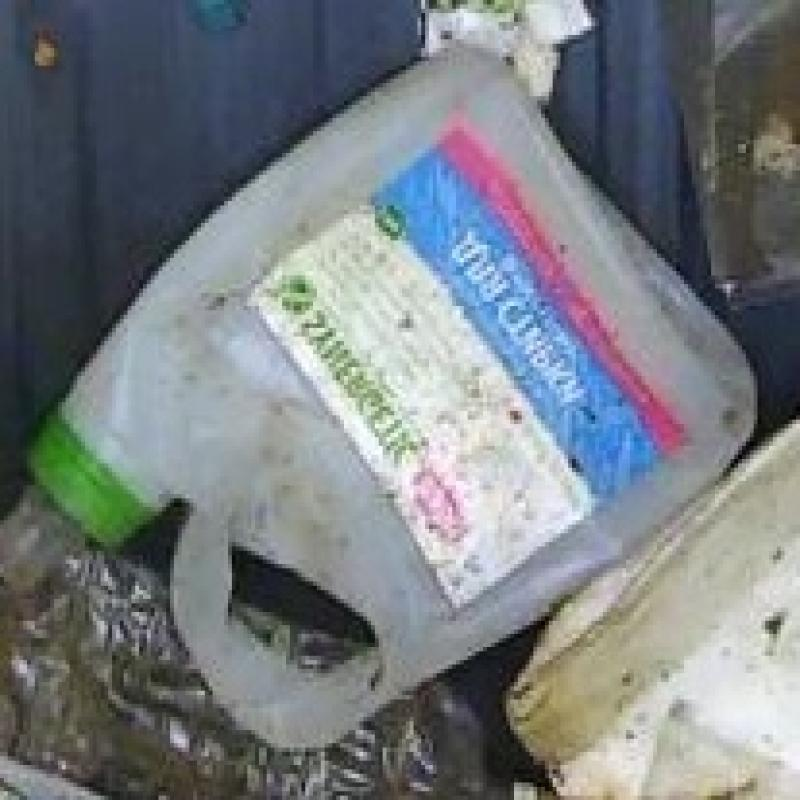botella: (0, 491, 556, 800)
